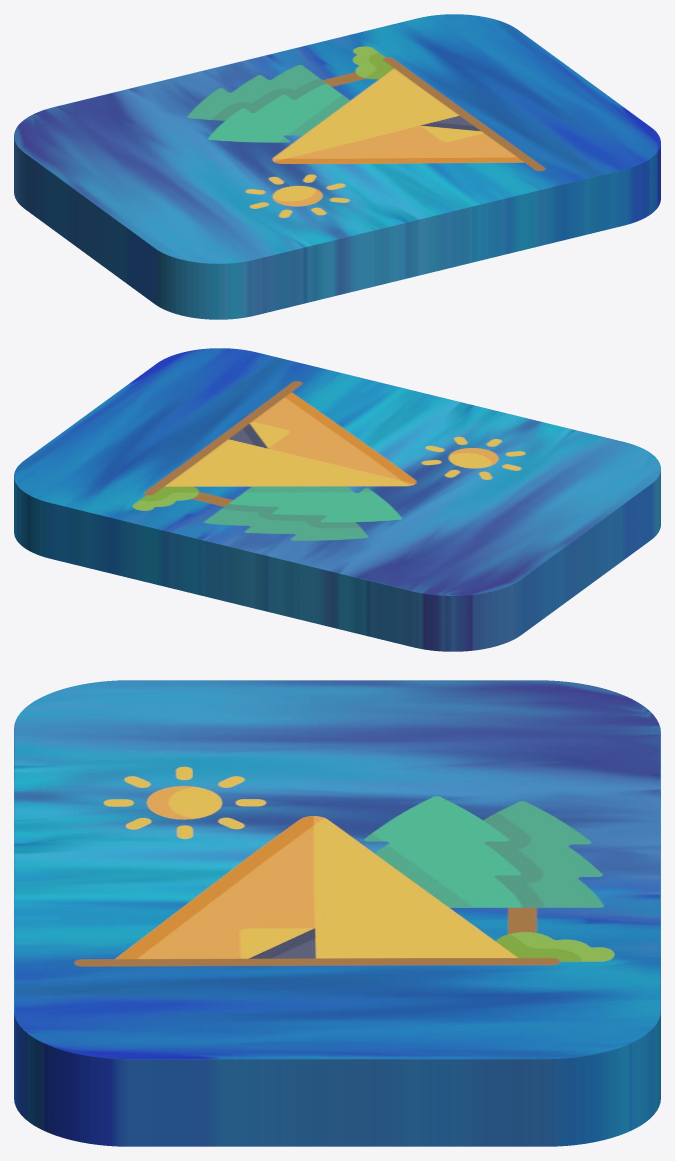
The model's file is my-sharing-base.glb.
3 renders of one model, top to bottom at view 1: azimuth 30°, elevation 25°; view 2: azimuth 150°, elevation 25°; view 3: azimuth 270°, elevation 25°, orthographic. The views are drawn at different scales.
Parts seen in each view (by area): view 1: Plane; view 2: Plane; view 3: Plane.
Boxes of the visible parts, left/top/right/bottom form: Plane: left=14, top=14, right=660, bottom=319; Plane: left=14, top=348, right=660, bottom=651; Plane: left=14, top=680, right=660, bottom=1146.
Bounding box in the file's own units: 3.9 × 0.4196 × 2.81.
1 material, 1 textured.
